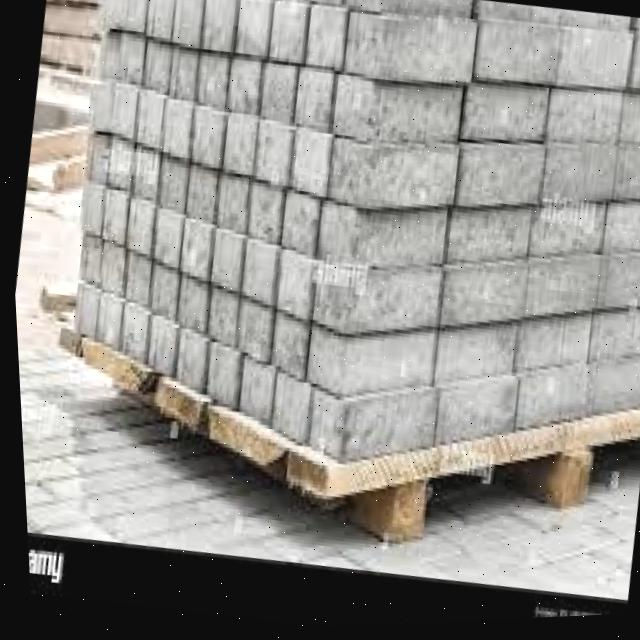bricks: (78, 0, 640, 453)
